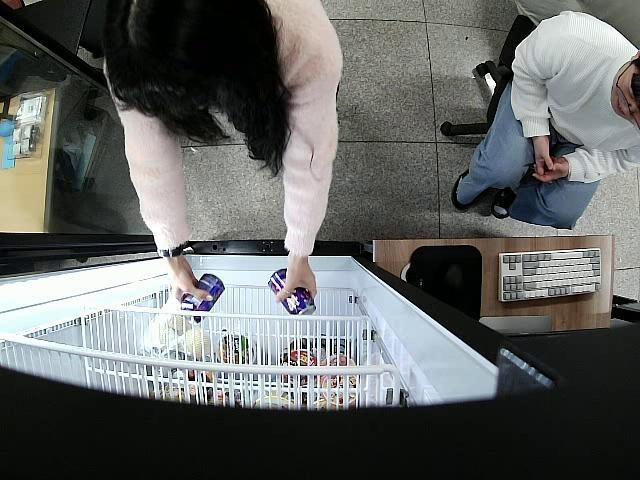14_welchsGrape: (268, 270, 316, 316), (183, 273, 224, 324)
